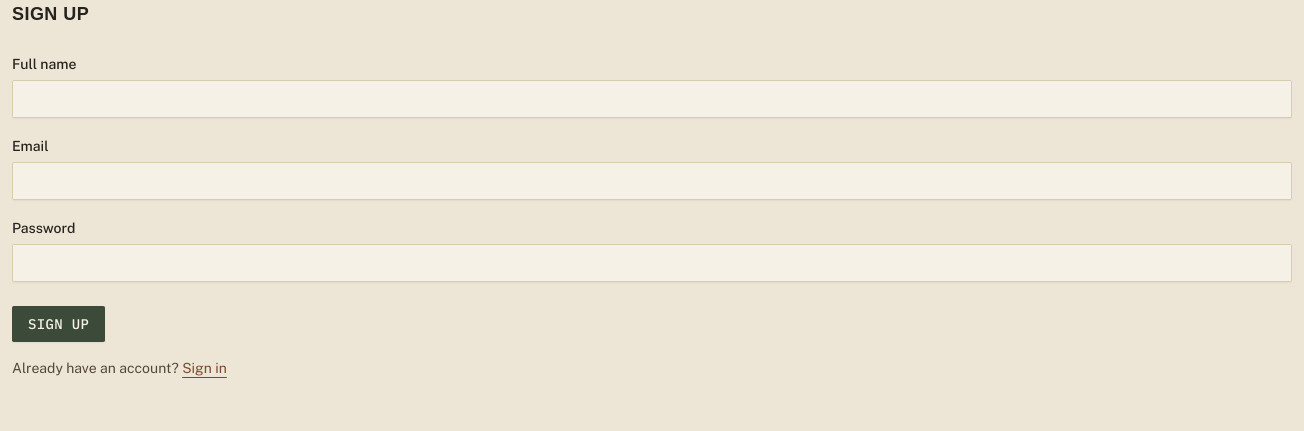
SignUpForm › shows a server error message when sign-up fails
Type "Ada Lovelace" into the field labelled "Full name" at (652, 99), box x1=12 y1=80 x2=1292 y2=118
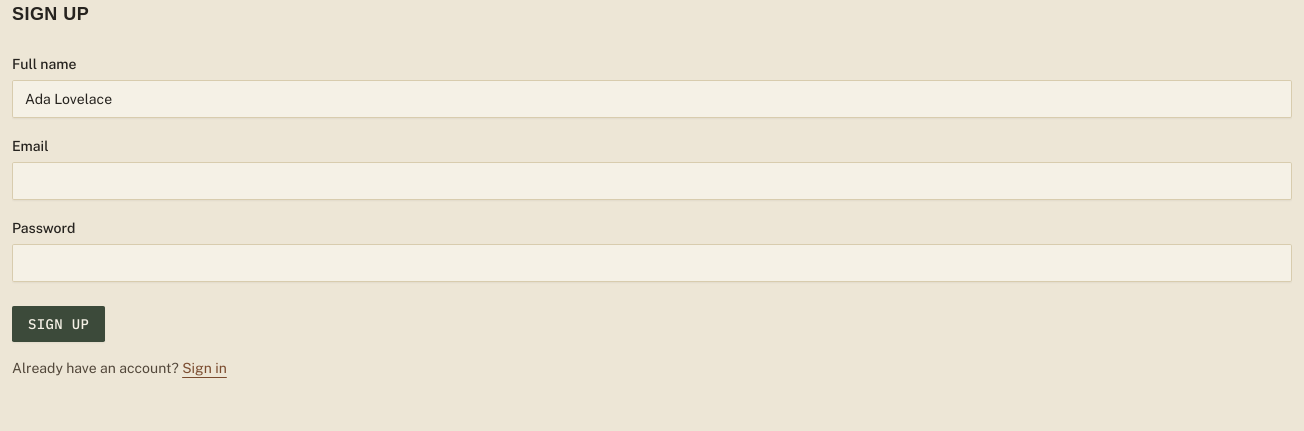
Type "ada@example.com" into the field labelled "Email" at (652, 181), box x1=12 y1=162 x2=1292 y2=200
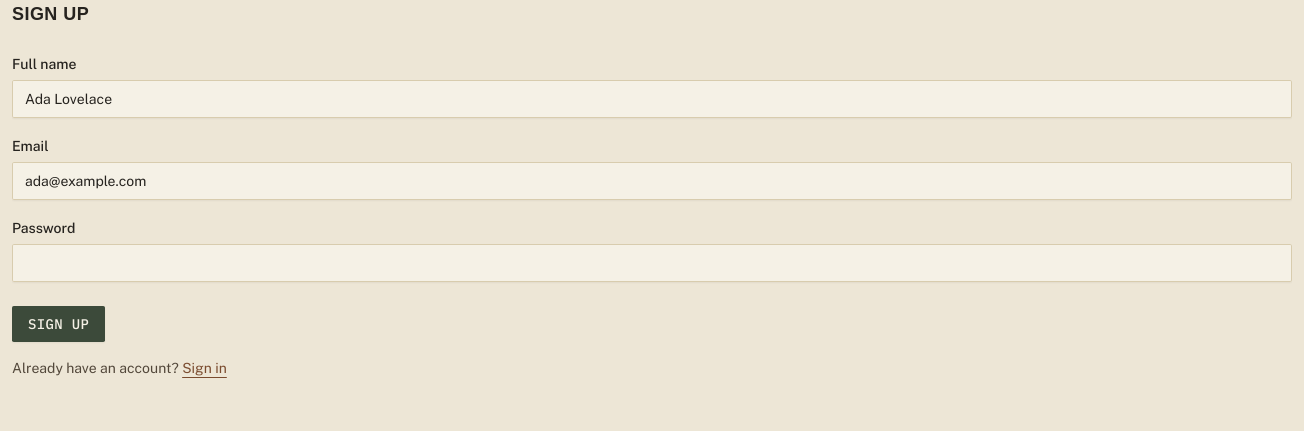
Type "password123" into the password field labelled "Password" at (652, 263), box x1=12 y1=244 x2=1292 y2=282
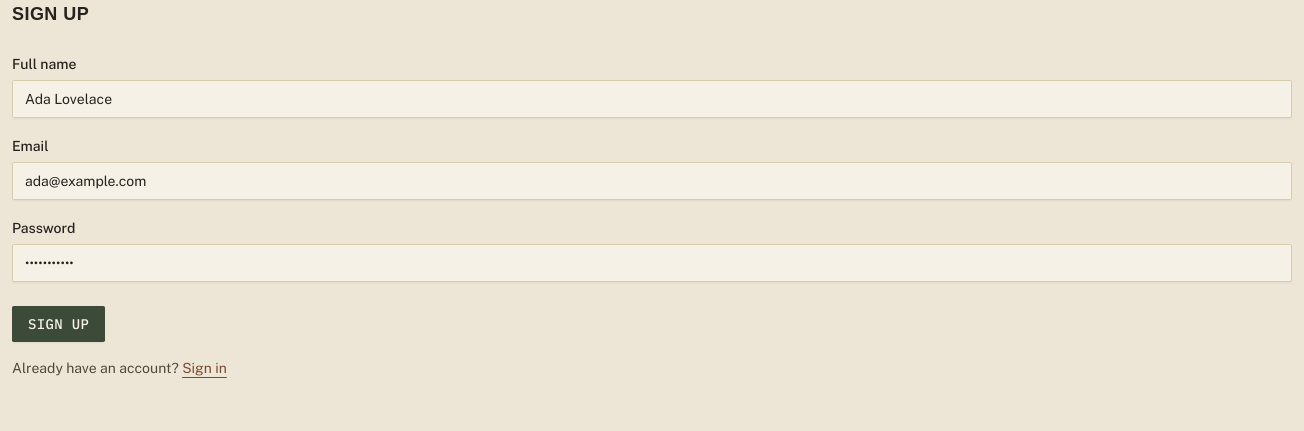
Click the button "Sign Up" at (59, 324), box x1=12 y1=306 x2=105 y2=342
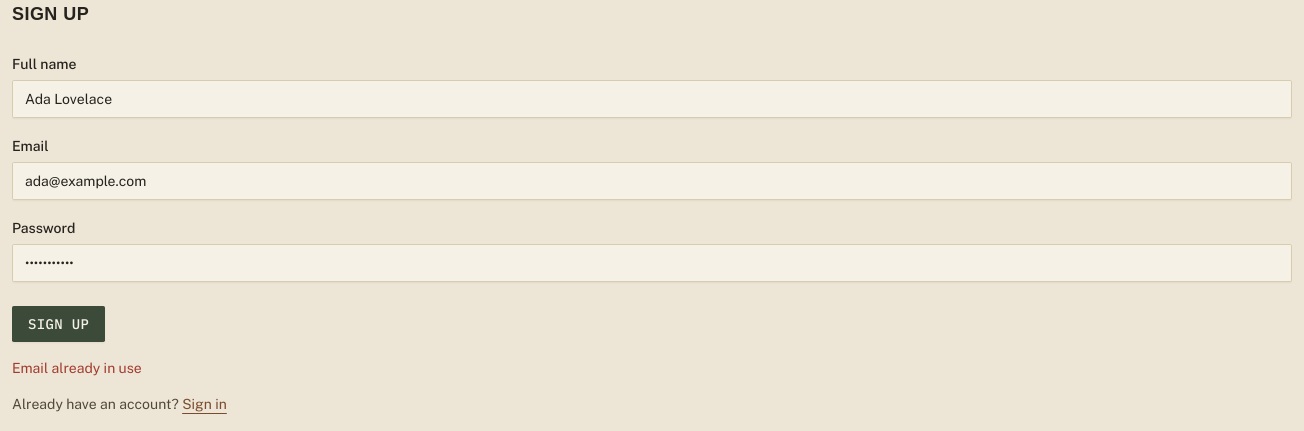
Now the text "Email already in use" is shown, box x1=12 y1=360 x2=142 y2=376
